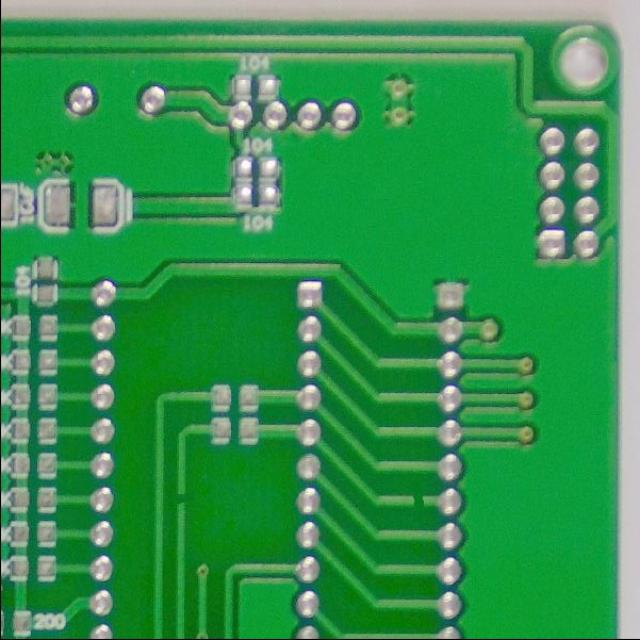open_circuit: (170, 486, 190, 511), (408, 492, 427, 513)
